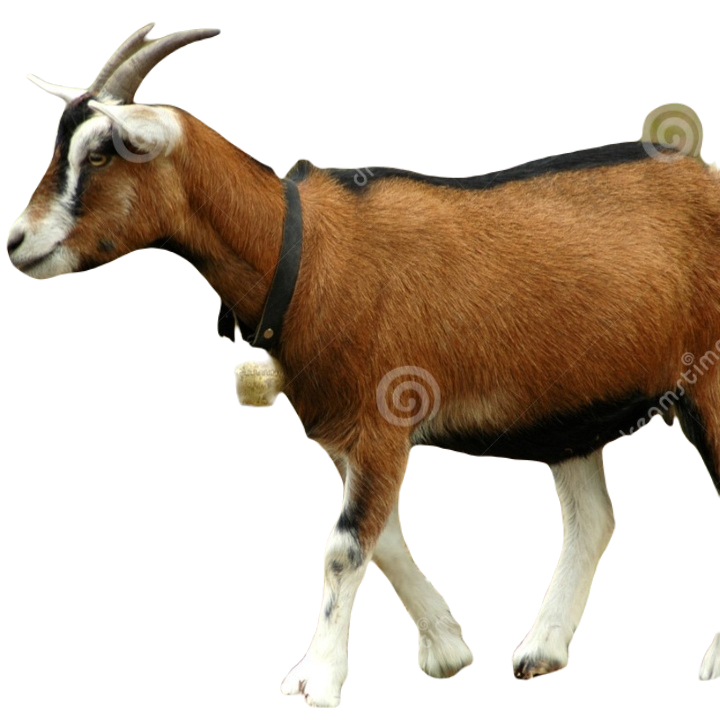Goat: (6, 18, 719, 705)
